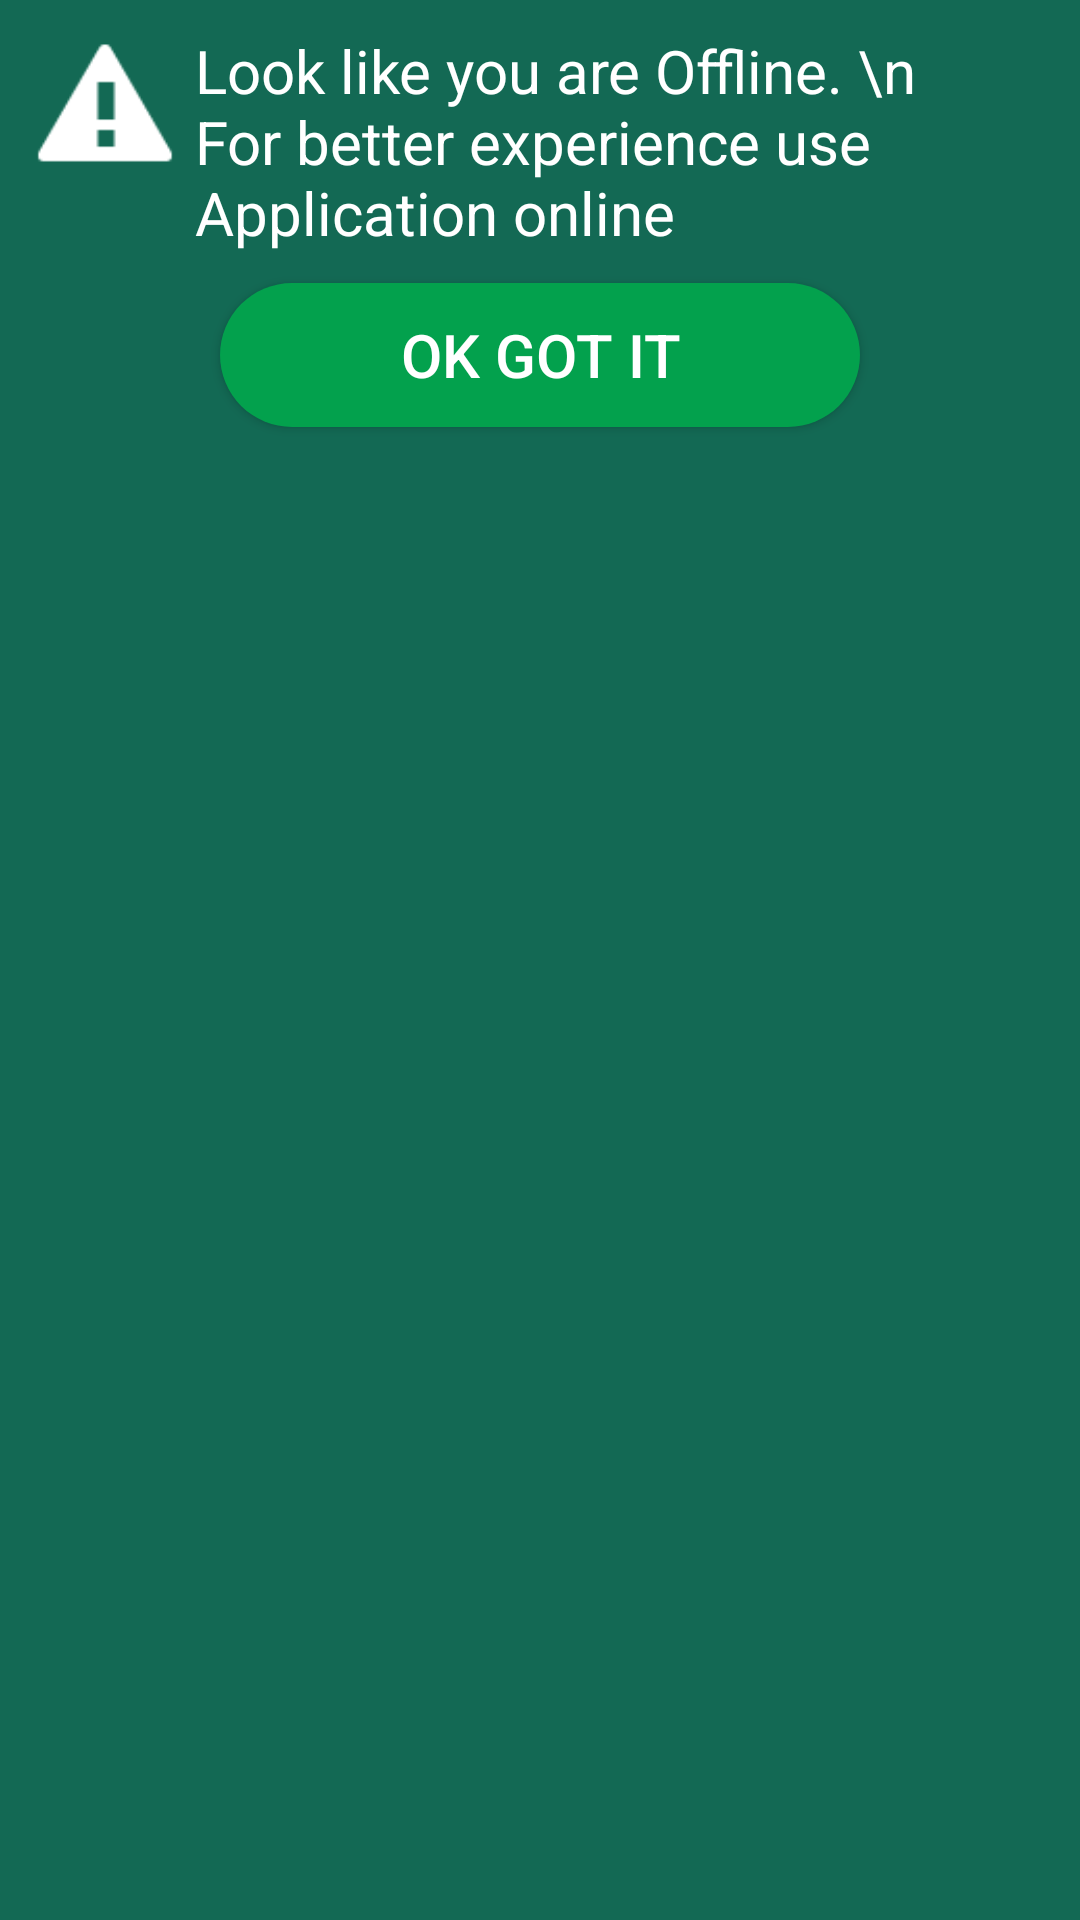

Named icons in this screenshot (1080 x 1920) and their bounding boxes, (x1, y1, x2, y2):
error: (38, 44, 172, 162)
